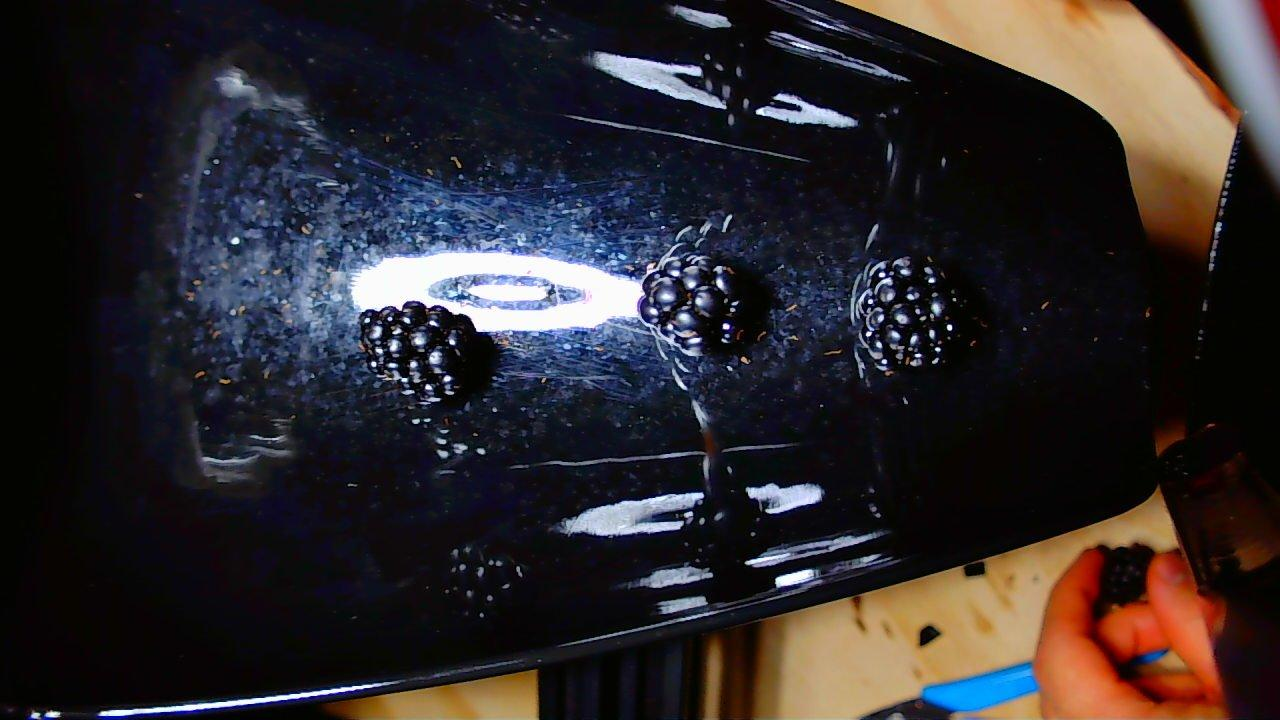berry: (359, 301, 487, 402), (853, 256, 963, 372), (636, 254, 758, 355)
